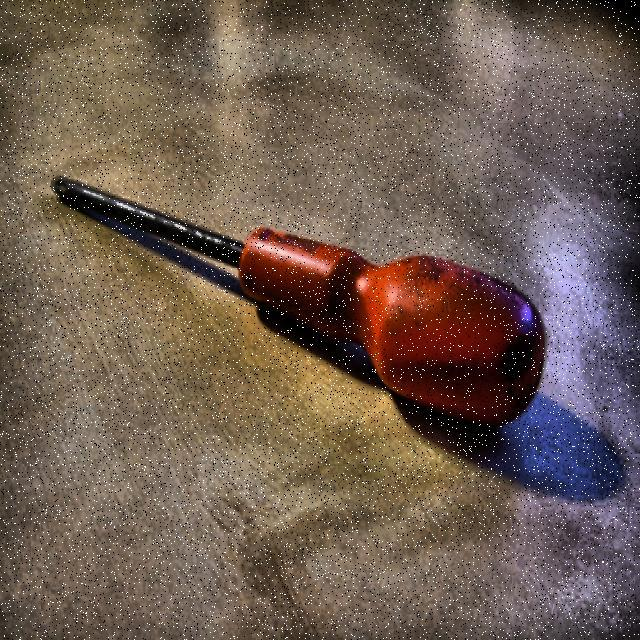screwdriver: (54, 179, 546, 428)
